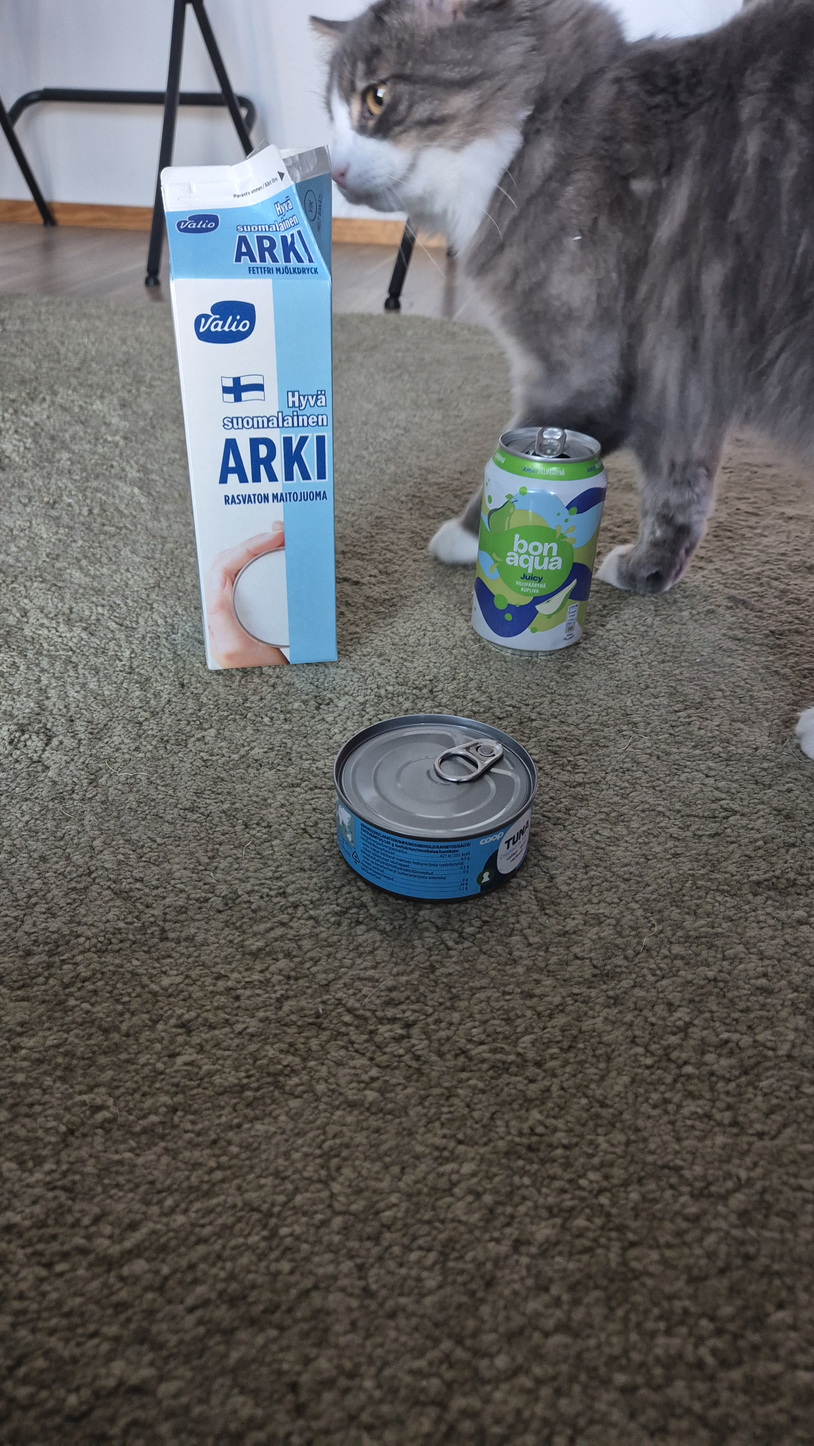Dryckeskartong: (160, 139, 337, 670)
Konservburk: (333, 714, 538, 902)
Pantburk: (471, 427, 608, 656)
